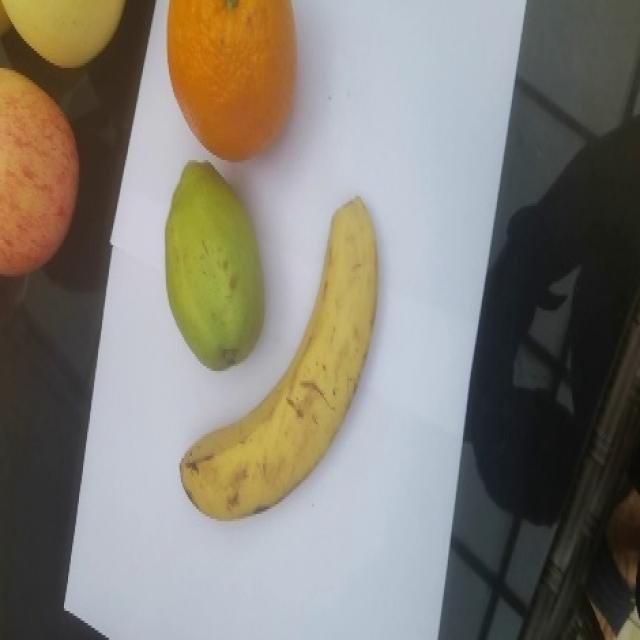Apple: (0, 67, 80, 277)
Banana: (163, 159, 265, 371)
Orange: (166, 0, 297, 162)
